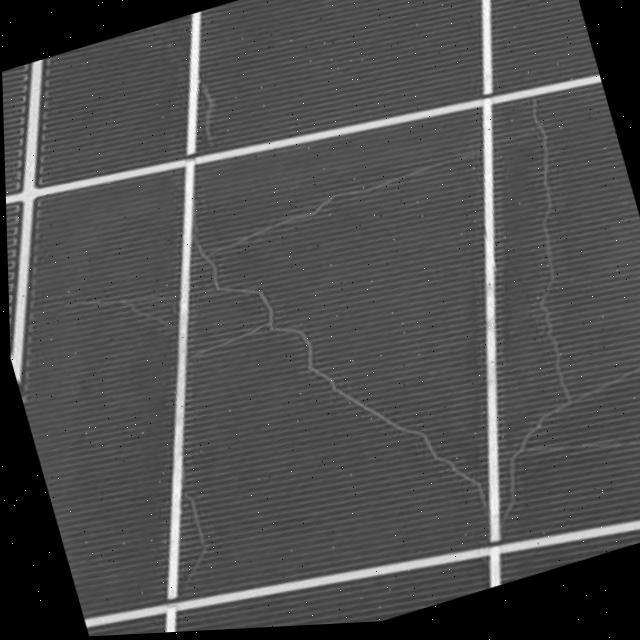Anomaly Solar Panel: (2, 0, 640, 637)
Structural Damage: (187, 154, 486, 528), (408, 66, 640, 516), (68, 272, 176, 326), (170, 487, 207, 582), (192, 78, 220, 146)
